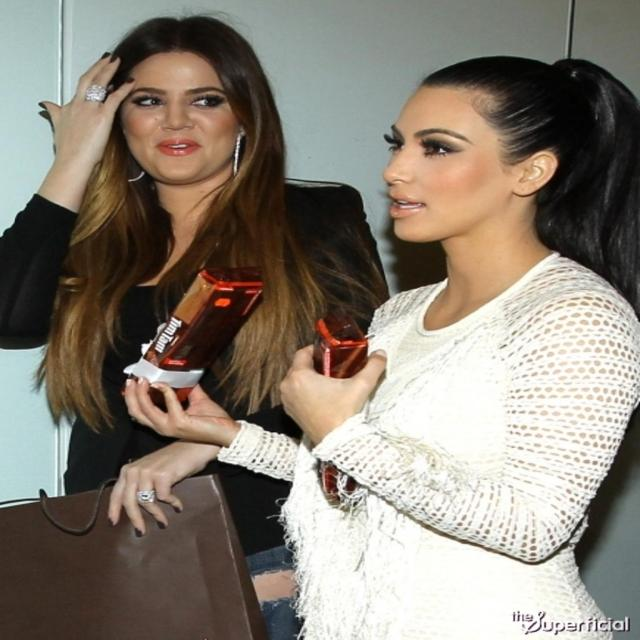Face: (351, 92, 544, 249), (110, 51, 242, 192)
